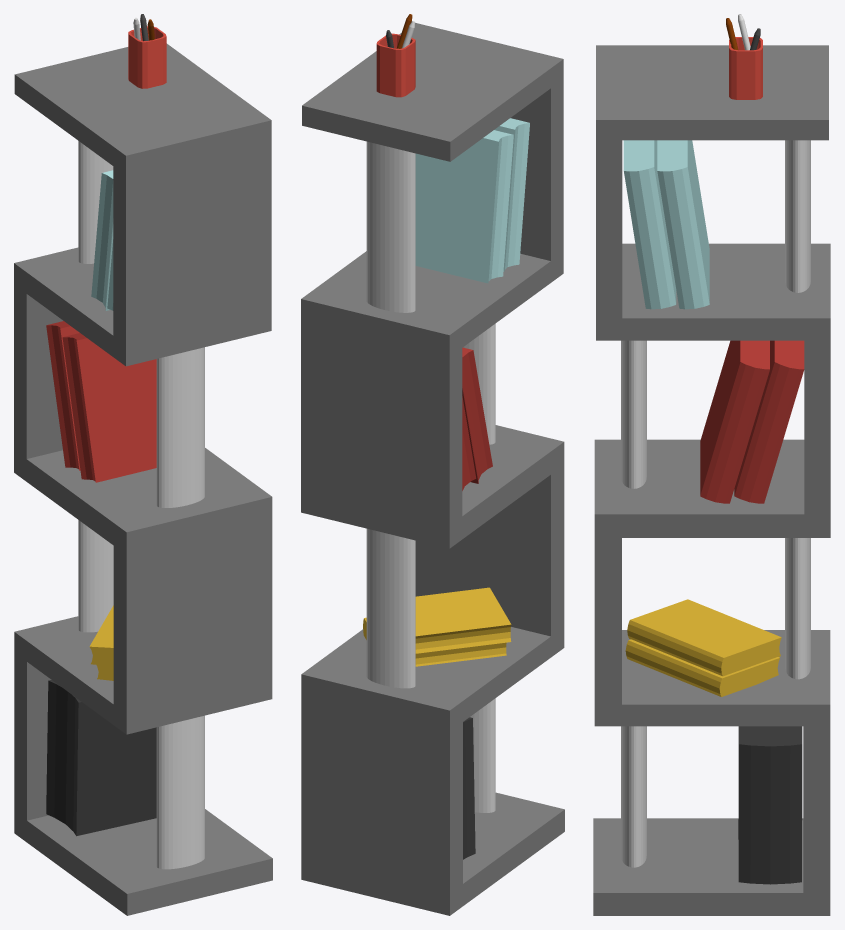
The model's file is kitaplık3.fbx.
3 views of the same model, side by side, from view 1: azimuth 30°, elevation 25°; view 2: azimuth 150°, elevation 25°; view 3: azimuth 270°, elevation 25° (orthographic). The views are drawn at different scales.
Parts seen in each view (by area): view 1: Cube, Cube.002, Cube.004, Cylinder.001, Cylinder.003, Cylinder.002, Cylinder, Cube.001, Cube.012, Cube.003; view 2: Cube, Cube.001, Cylinder, Cylinder.002, Cube.003, Cube.002, Cylinder.003, Cube.012, Cylinder.001, Cube.004; view 3: Cube, Cube.002, Cube.001, Cube.003, Cube.004, Cylinder, Cylinder.001, Cylinder.003, Cylinder.002, Cube.012.
Boxes of the visible parts, <box> form: Cube: <box>14,43,272,915</box>; Cube.002: <box>46,321,156,482</box>; Cube.004: <box>46,680,156,836</box>; Cylinder.001: <box>156,347,204,507</box>; Cylinder.003: <box>156,715,204,869</box>; Cylinder.002: <box>78,520,113,632</box>; Cylinder: <box>78,141,113,263</box>; Cube.001: <box>91,170,113,310</box>; Cube.012: <box>128,26,166,88</box>; Cube.003: <box>89,605,113,680</box>; Cube: <box>301,22,564,915</box>; Cube.001: <box>415,118,529,283</box>; Cylinder: <box>366,141,415,312</box>; Cylinder.002: <box>366,528,415,688</box>; Cube.003: <box>363,587,511,666</box>; Cube.002: <box>462,347,492,490</box>; Cylinder.003: <box>470,698,495,812</box>; Cube.012: <box>376,33,415,97</box>; Cylinder.001: <box>463,323,495,444</box>; Cube.004: <box>463,717,475,859</box>; Cube: <box>593,45,830,915</box>; Cube.002: <box>700,340,804,503</box>; Cube.001: <box>623,140,709,309</box>; Cube.003: <box>625,599,781,696</box>; Cube.004: <box>738,726,802,884</box>; Cylinder: <box>785,140,810,292</box>; Cylinder.001: <box>621,340,646,488</box>; Cylinder.003: <box>621,726,646,867</box>; Cylinder.002: <box>785,538,810,679</box>; Cube.012: <box>729,37,762,99</box>.
Size of the model in its own units: 200 by 1086 by 269.
